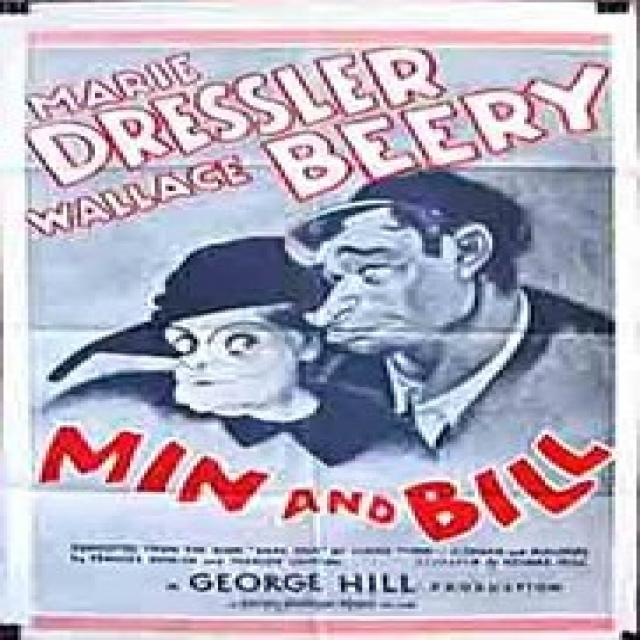movie-judul: (43, 422, 618, 542)
picture: (80, 180, 610, 440)
